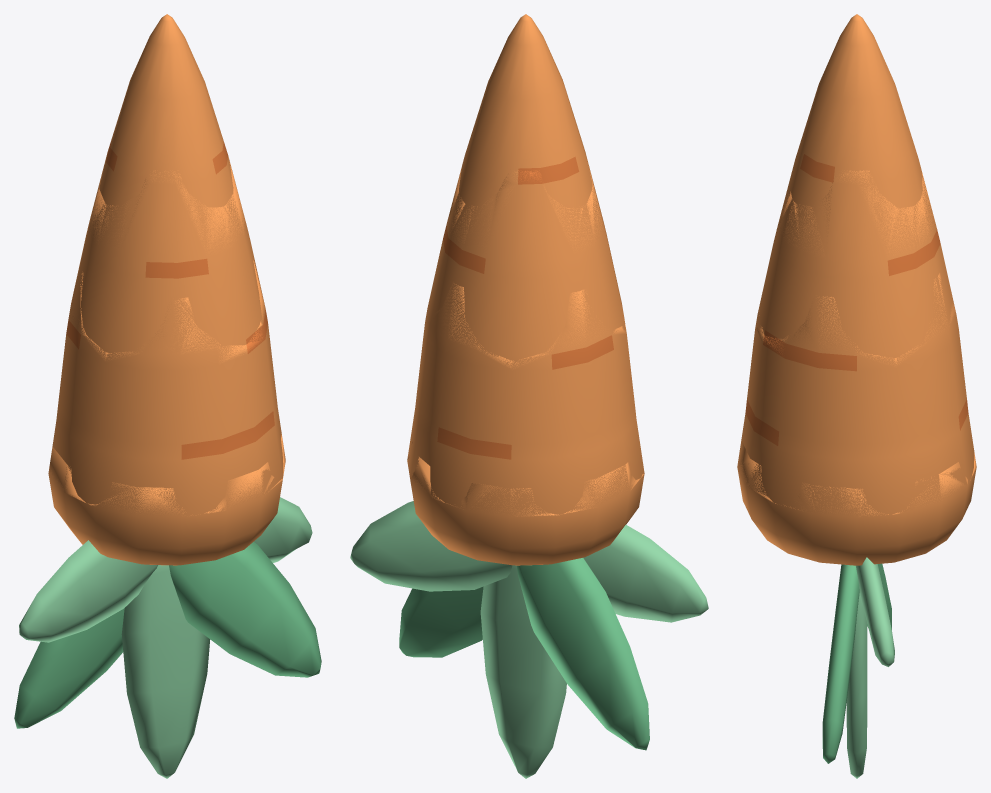
Rendered from carrot.glb.
3 renders of one model, left to right at view 1: azimuth 30°, elevation 25°; view 2: azimuth 150°, elevation 25°; view 3: azimuth 270°, elevation 25°, orthographic.
Parts seen in each view (by area): view 1: carrot_stage0, carrot_leaves, carrot_stage1, carrot_stage3, carrot_stage2; view 2: carrot_stage0, carrot_leaves, carrot_stage1, carrot_stage2, carrot_stage3; view 3: carrot_stage0, carrot_leaves, carrot_stage1, carrot_stage2, carrot_stage3.
Part boxes in pixels (<box>): carrot_stage0: <box>48,14,283,565</box>; carrot_leaves: <box>14,497,321,778</box>; carrot_stage1: <box>88,152,245,262</box>; carrot_stage3: <box>49,434,285,516</box>; carrot_stage2: <box>68,260,265,365</box>; carrot_stage0: <box>407,14,644,565</box>; carrot_leaves: <box>350,501,708,778</box>; carrot_stage1: <box>447,159,603,260</box>; carrot_stage2: <box>425,283,626,370</box>; carrot_stage3: <box>407,441,643,516</box>; carrot_stage0: <box>737,14,976,565</box>; carrot_leaves: <box>822,557,894,778</box>; carrot_stage1: <box>777,170,936,262</box>; carrot_stage2: <box>756,272,955,370</box>; carrot_stage3: <box>737,442,976,517</box>.
Size of the model in its own units: 0.1004 by 0.2256 by 0.064.
